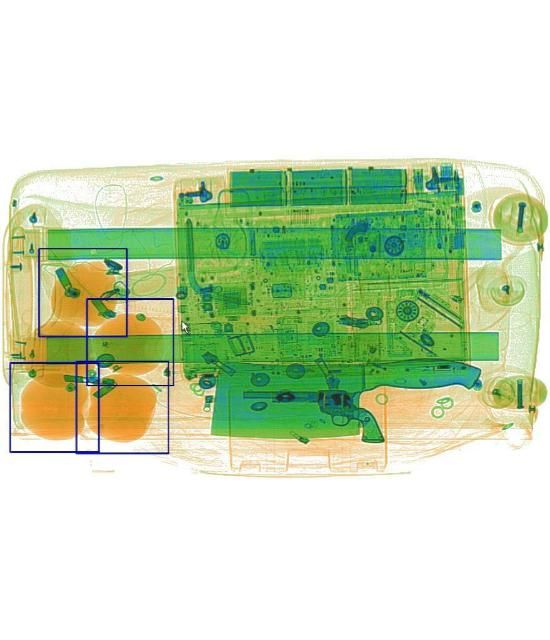Gun: (242, 388, 382, 442)
Knife: (211, 356, 479, 438)
